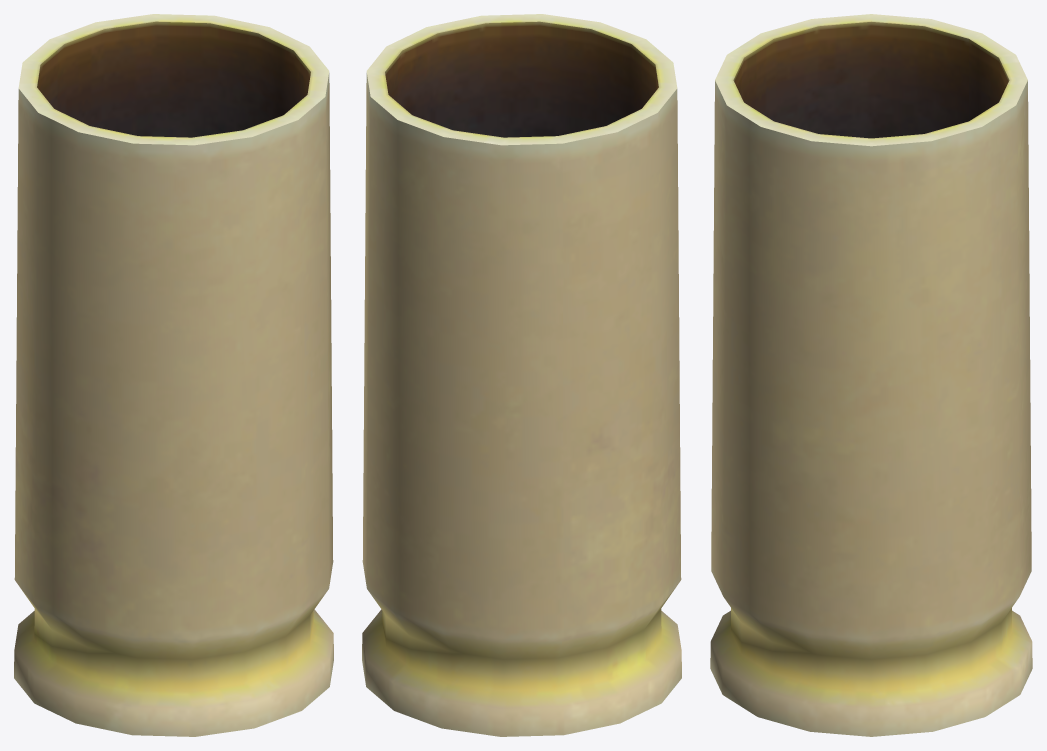
File: SM_Ammo_03b.glb
3 views of the same model, side by side, from view 1: azimuth 30°, elevation 25°; view 2: azimuth 150°, elevation 25°; view 3: azimuth 270°, elevation 25° (orthographic).
Parts seen in each view (by area): view 1: SM_Ammo_03b; view 2: SM_Ammo_03b; view 3: SM_Ammo_03b.
Part boxes in pixels (x1,y1,x2,y2): SM_Ammo_03b: (14, 14, 333, 736); SM_Ammo_03b: (362, 14, 681, 736); SM_Ammo_03b: (710, 14, 1032, 736).
Bounding box in the file's own units: 0.00989 × 0.0199 × 0.00989.
Materials: 1 (1 with a texture image).
